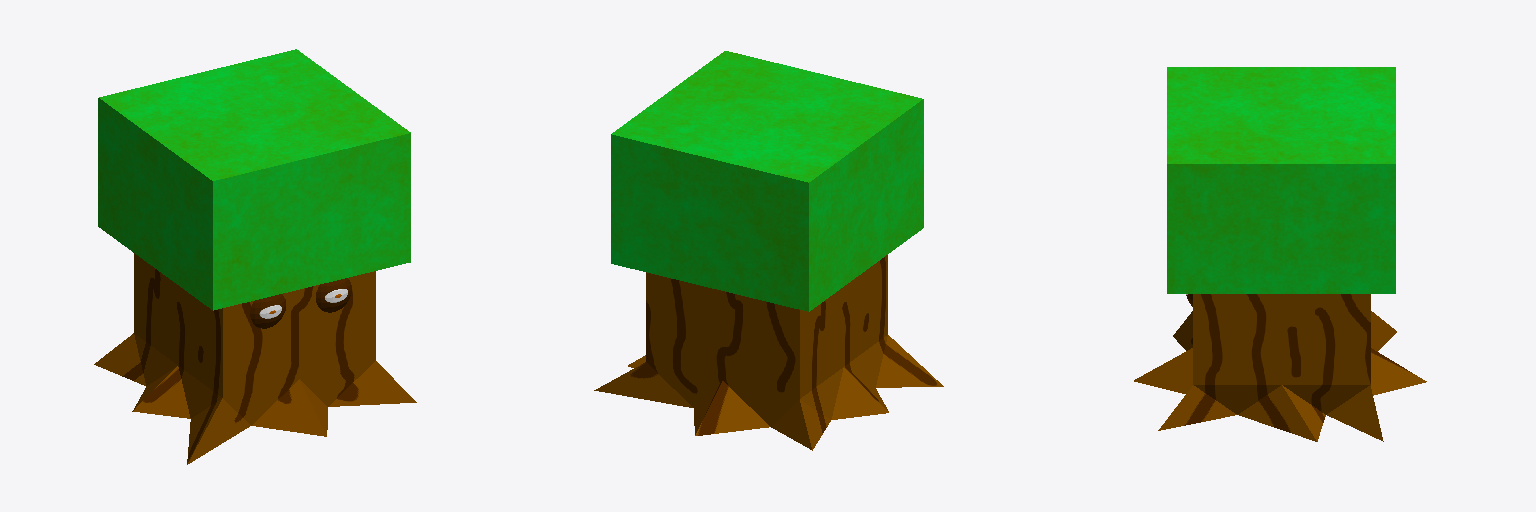
The picture shows the model from 3 angles: view 1: azimuth 30°, elevation 25°; view 2: azimuth 150°, elevation 25°; view 3: azimuth 270°, elevation 25°; orthographic projection.
Visible parts, largest first — view 1: 球_球.001; view 2: 球_球.001; view 3: 球_球.001.
Boxes of the visible parts, box(x1,y1,x2,y2) form: 球_球.001: box(94, 49, 416, 464); 球_球.001: box(594, 51, 943, 450); 球_球.001: box(1134, 67, 1426, 441).
Bounding box in the file's own units: 0.9331 × 1.02 × 0.9725.
Materials: 3 (1 with a texture image).